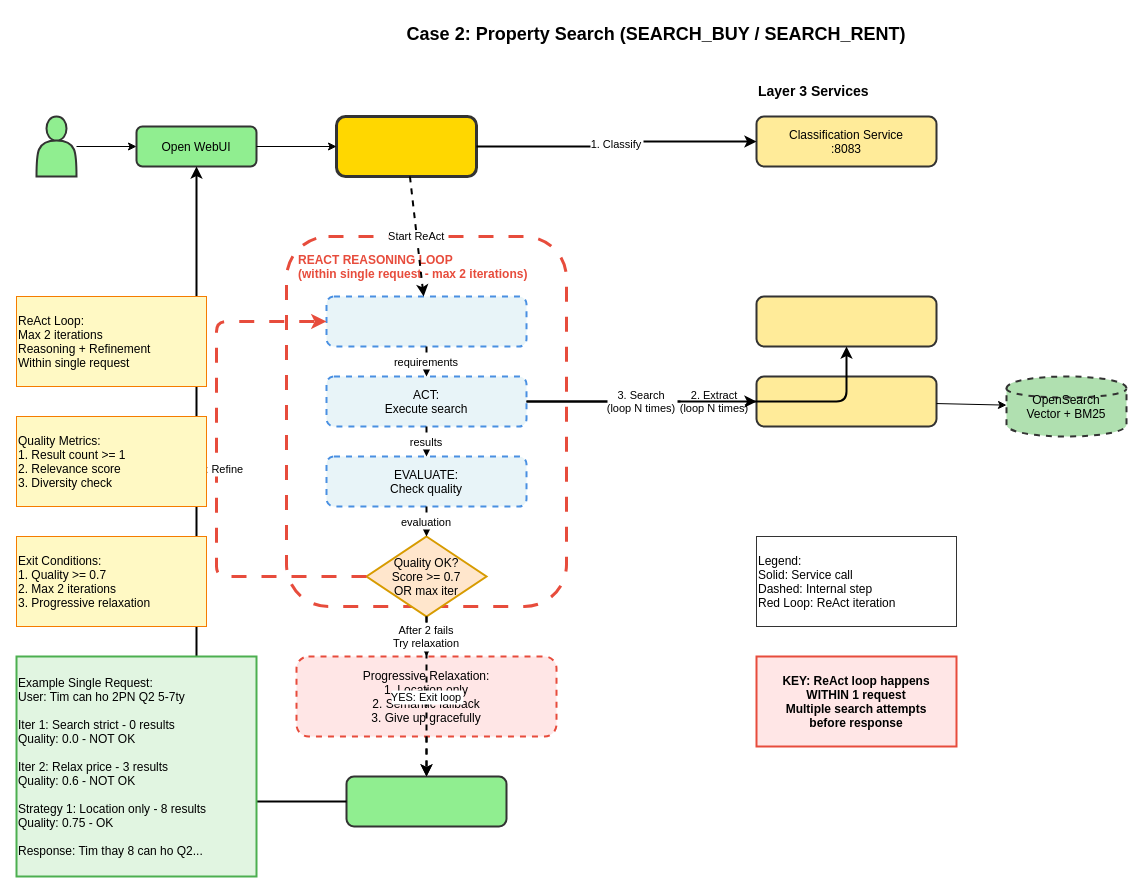
The diagram is 1143 pixels wide and 893 high, and some of its shapes have lost their labels. Each missing label, with the centre of its shape:
"DB Gateway :8081" belongs at (846,401).
"Extraction Service :8084" belongs at (846,321).
"Orchestrator ReAct Agent" belongs at (406,146).
"REASONING: Analyze requirements" belongs at (426,321).
"Response: N properties found" belongs at (426,801).
"USER" belongs at (56,146).
